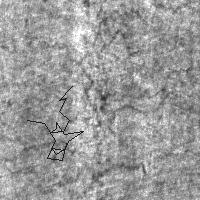crazing: (78, 19, 178, 131), (3, 117, 146, 194), (27, 86, 83, 160)
